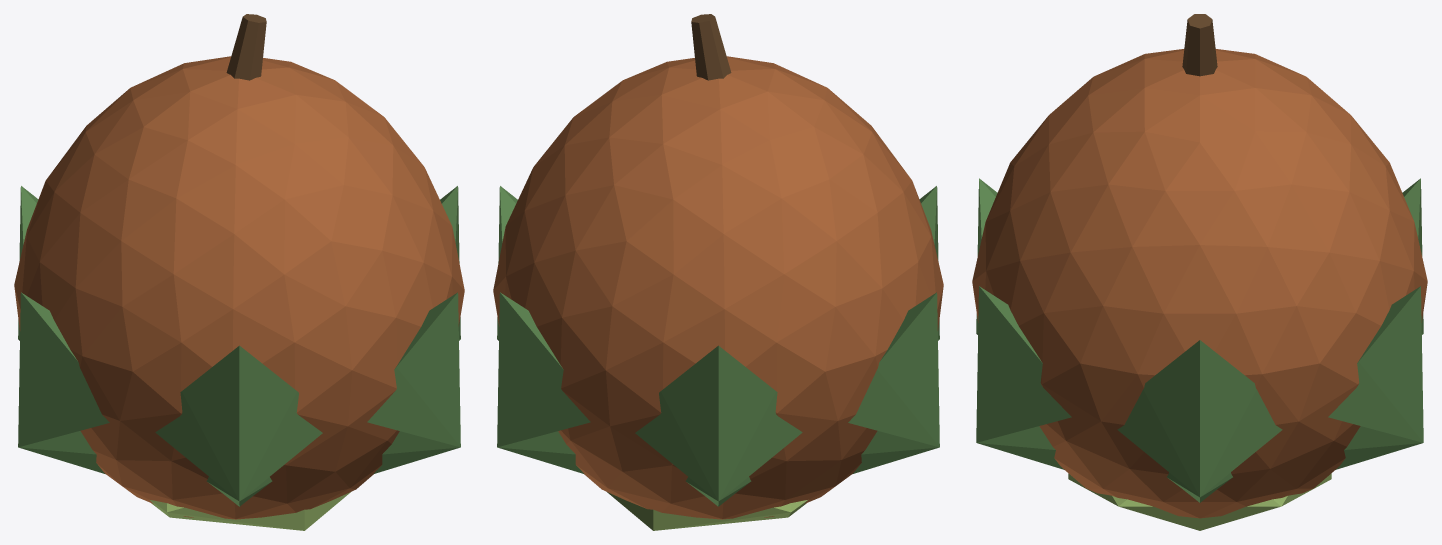
Rendered from Hazelfruit.obj.
3 views of the same model, side by side, from view 1: azimuth 30°, elevation 25°; view 2: azimuth 150°, elevation 25°; view 3: azimuth 270°, elevation 25° (orthographic).
Parts seen in each view (by area): view 1: Hazelfruit_HazelfruitShell, Hazelfruit_HazelfruitHusk, Hazelfruit_HazelHuskEdges, Hazelfruit_HazelfruitStem; view 2: Hazelfruit_HazelfruitShell, Hazelfruit_HazelfruitHusk, Hazelfruit_HazelHuskEdges, Hazelfruit_HazelfruitStem; view 3: Hazelfruit_HazelfruitShell, Hazelfruit_HazelfruitHusk, Hazelfruit_HazelHuskEdges, Hazelfruit_HazelfruitStem.
Boxes of the visible parts, x1,y1,x2,y2 form: Hazelfruit_HazelfruitShell: (14,56,464,519); Hazelfruit_HazelfruitHusk: (18,186,460,506); Hazelfruit_HazelHuskEdges: (150,492,350,530); Hazelfruit_HazelfruitStem: (226,14,266,80); Hazelfruit_HazelfruitShell: (493,56,943,519); Hazelfruit_HazelfruitHusk: (497,186,939,506); Hazelfruit_HazelHuskEdges: (607,492,807,530); Hazelfruit_HazelfruitStem: (691,14,731,80); Hazelfruit_HazelfruitShell: (972,49,1427,518); Hazelfruit_HazelfruitHusk: (976,178,1423,502); Hazelfruit_HazelHuskEdges: (1068,473,1331,530); Hazelfruit_HazelfruitStem: (1182,14,1217,76).
Size of the model in its own units: 1.13 by 1.19 by 1.
